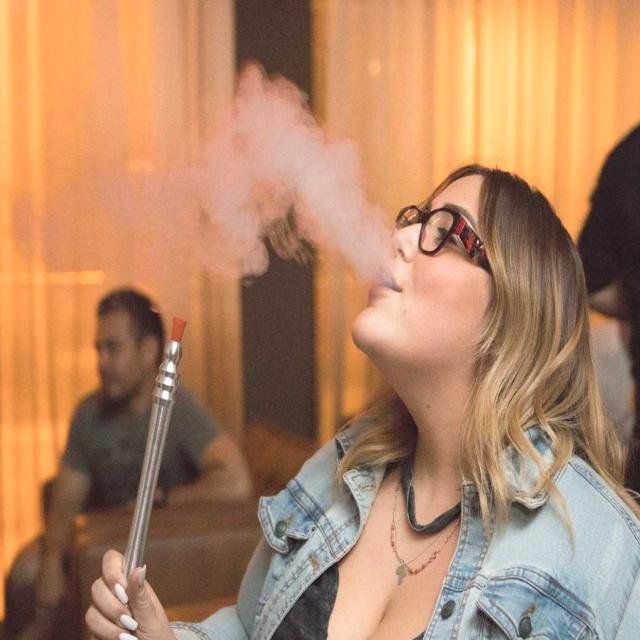Smooking: (90, 301, 205, 599)
